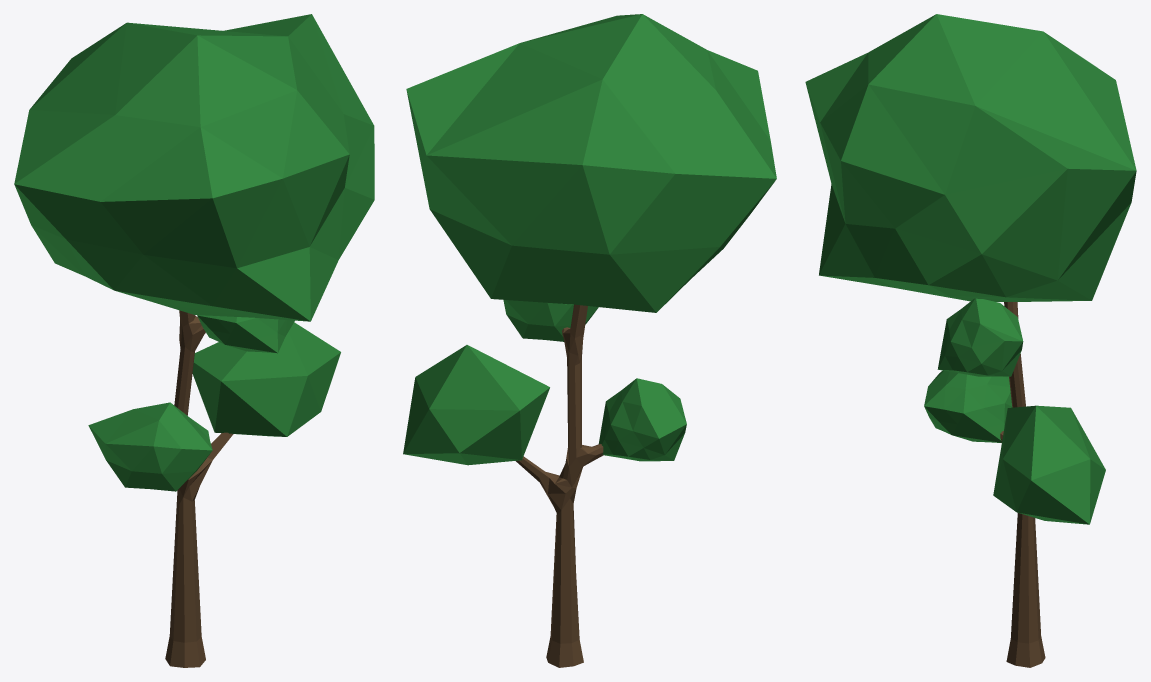
The model's file is arbol.fbx.
The picture shows the model from 3 angles, left to right: view 1: azimuth 30°, elevation 25°; view 2: azimuth 150°, elevation 25°; view 3: azimuth 270°, elevation 25°; orthographic projection. The views are drawn at different scales.
Visible parts, largest first — view 1: arbol.003; view 2: arbol.003; view 3: arbol.003.
Part boxes in pixels (x1,y1,x2,y2): arbol.003: [14, 14, 374, 667]; arbol.003: [403, 14, 776, 667]; arbol.003: [805, 14, 1136, 667].
Bounding box in the file's own units: 1765 × 3091 × 1474.
